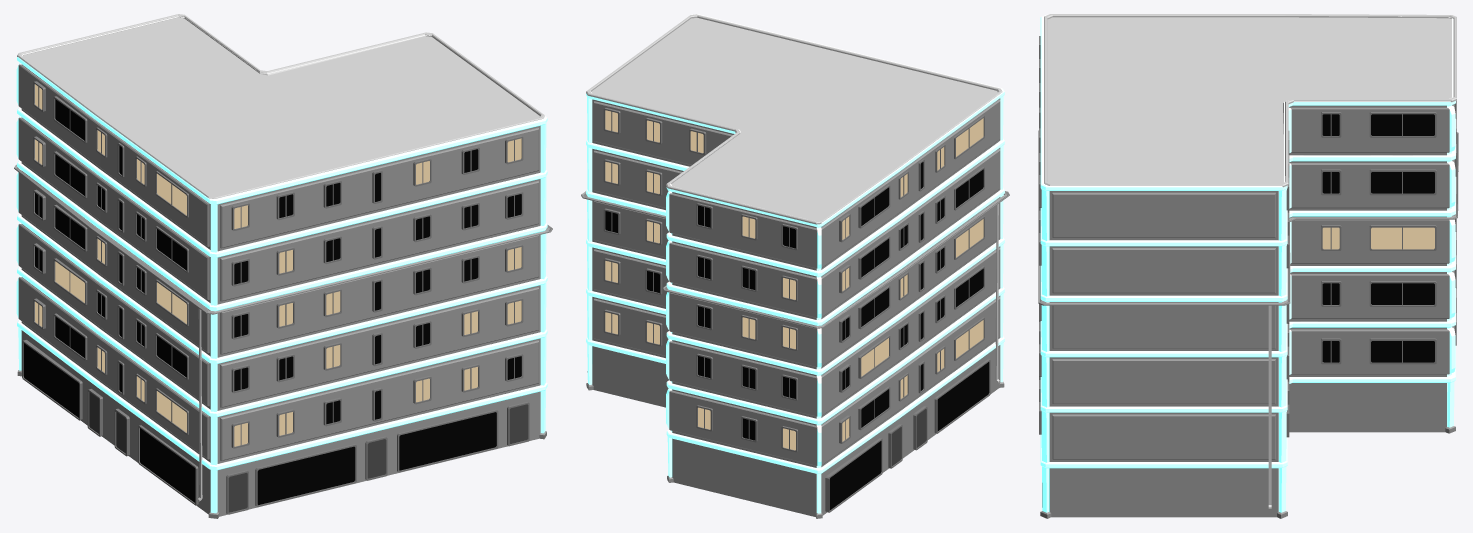
The model's file is Building_Big_Corner_0_Size_3.fbx.
The picture shows the model from 3 angles, left to right: view 1: azimuth 30°, elevation 25°; view 2: azimuth 150°, elevation 25°; view 3: azimuth 270°, elevation 25°; orthographic projection. The views are drawn at different scales.
Visible parts, largest first — view 1: Building_Big_Corner_0_Size_3; view 2: Building_Big_Corner_0_Size_3; view 3: Building_Big_Corner_0_Size_3.
Part boxes in pixels (left/top/right/bottom): Building_Big_Corner_0_Size_3: left=14, top=14, right=552, bottom=518; Building_Big_Corner_0_Size_3: left=581, top=14, right=1009, bottom=518; Building_Big_Corner_0_Size_3: left=1038, top=14, right=1458, bottom=518.
Size of the model in its own units: 2614 by 2307 by 2636.
